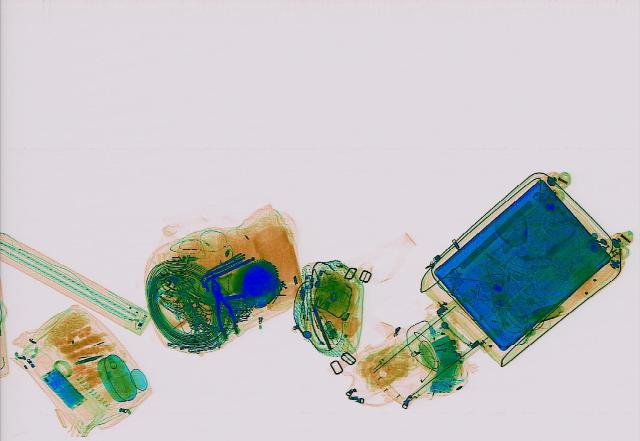Pliers: (206, 279, 240, 340)
